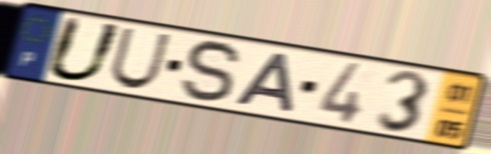3: (375, 69, 433, 136)
4: (317, 61, 365, 127)
A: (230, 50, 297, 116)
S: (178, 39, 244, 106)
U: (42, 14, 127, 84), (107, 25, 174, 91)
